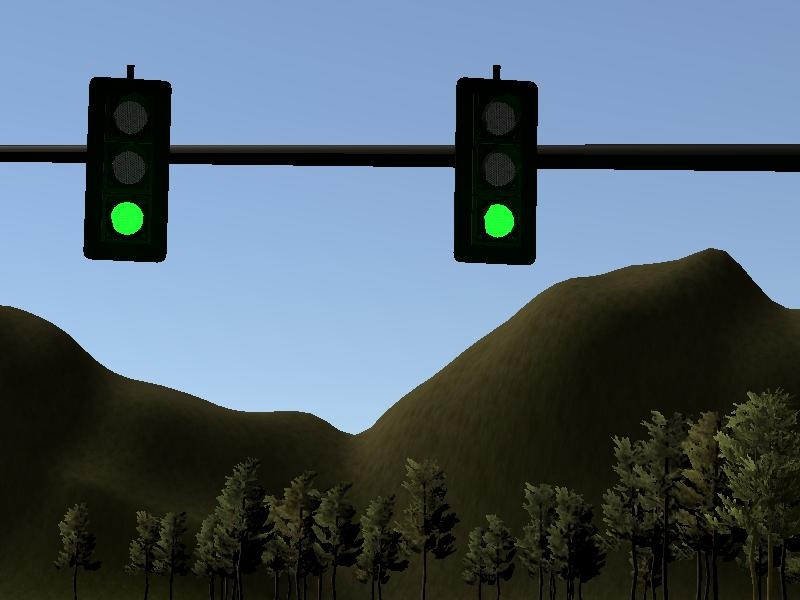GREEN: (85, 76, 169, 263), (454, 79, 538, 266)
